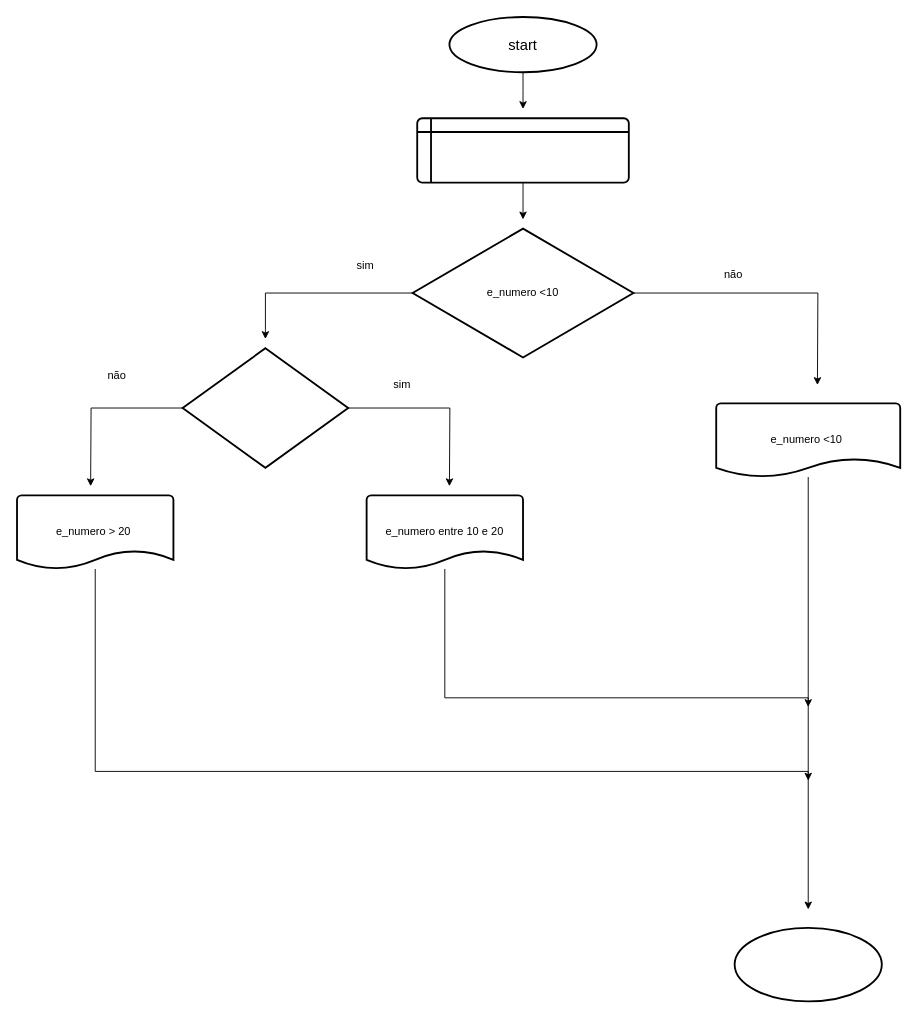
This 916x1018 diagram has some shape labels left out. The shapes that lost their labels are listed below. From the top down, each one's centre as x and y in pixels, then its label:
the point at 522,150: e_numero
the point at 265,407: e_numero < 20
the point at 807,964: End
